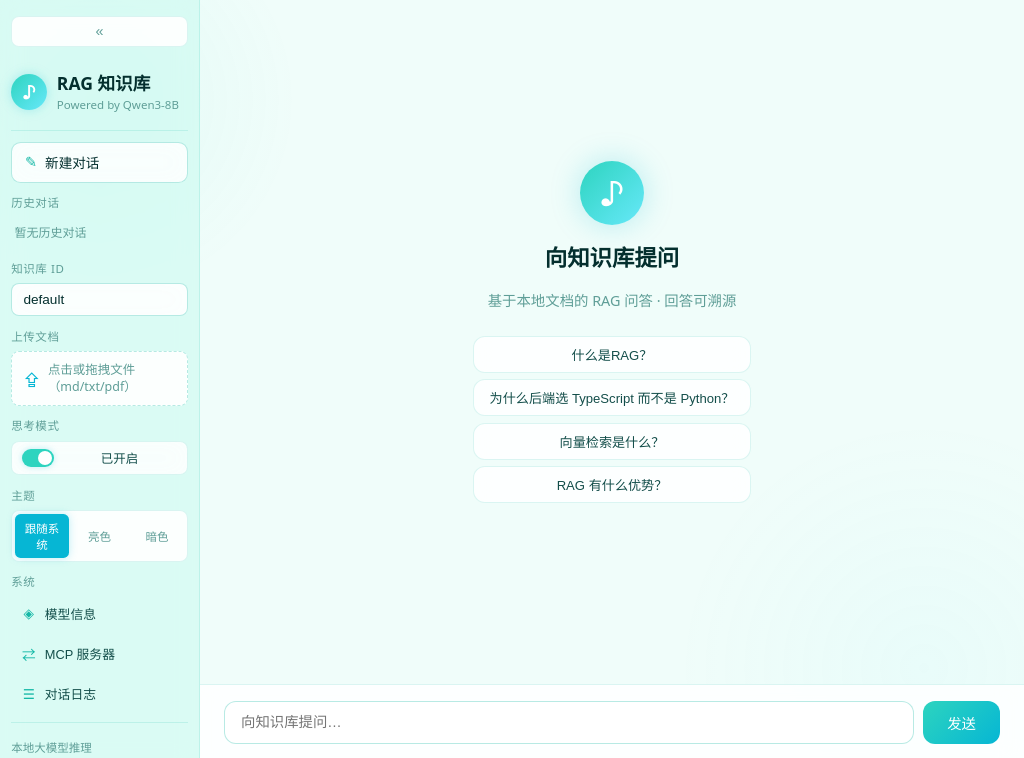
推理引擎切换 › 打开模型信息弹窗 → 加载并展示当前引擎（Ollama）
// 打开模型信息弹窗：点击模型名（弹窗标题「模型信息」）
Click the button "◈ 模型信息" at [100, 613], box [11,597,188,630]
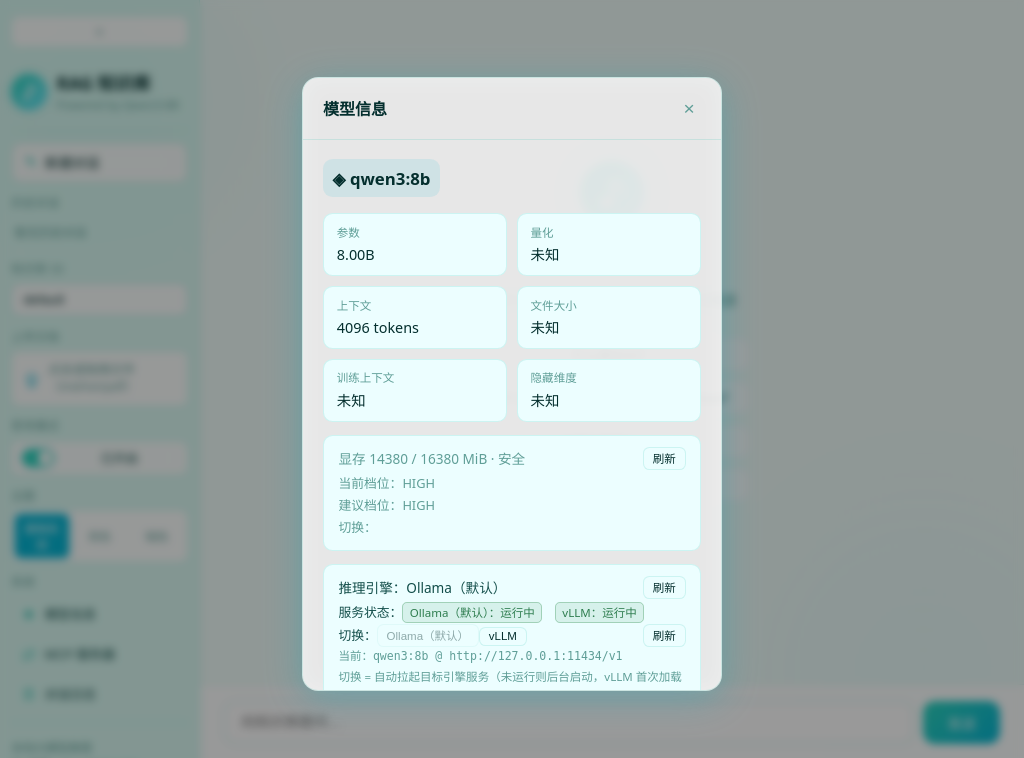
Expected: the text "推理引擎：Ollama（默认） 刷新" is shown, [338,576,686,599]
Expected: the text "当前：qwen3:8b @ http://127.0.0.1:11434/v1" is shown, [338,649,623,663]
Expected: the button "vLLM" is shown, [479,627,527,646]
